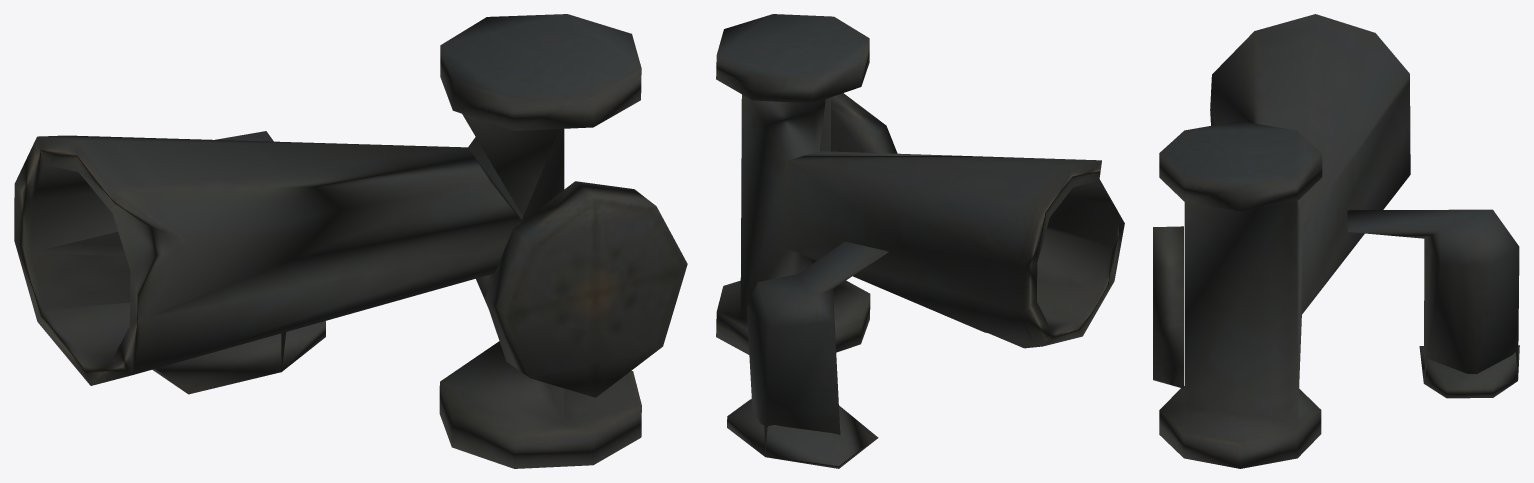
3 renders of one model, left to right at view 1: azimuth 30°, elevation 25°; view 2: azimuth 150°, elevation 25°; view 3: azimuth 270°, elevation 25°, orthographic. The views are drawn at different scales.
Size of the model in its own units: 2 by 1.4 by 1.64.
Materials: 1 (1 with a texture image).
